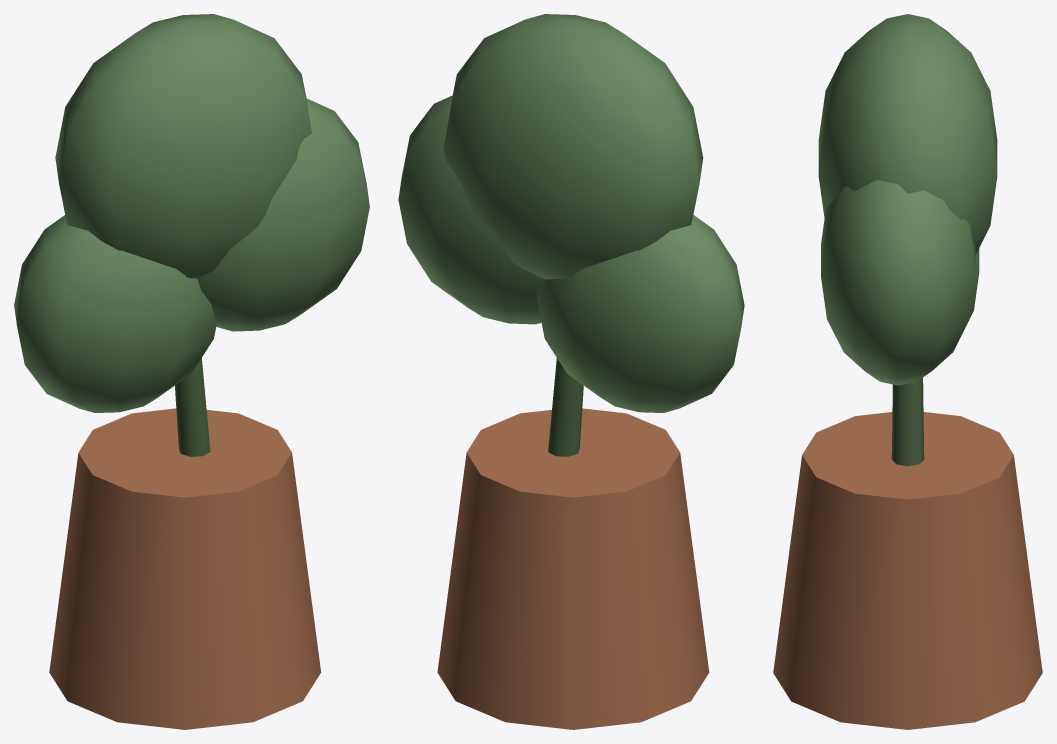
Rendered from plant.glb.
The picture shows the model from 3 angles, left to right: view 1: azimuth 30°, elevation 25°; view 2: azimuth 150°, elevation 25°; view 3: azimuth 270°, elevation 25°; orthographic projection.
Parts seen in each view (by area): view 1: leaf (×3), pot, stem; view 2: leaf (×3), pot, stem; view 3: pot, leaf (×2), stem.
Part boxes in pixels (<box>): leaf (×3): <box>14,14,369,412</box>; pot: <box>49,408,320,729</box>; stem: <box>175,358,210,456</box>; leaf (×3): <box>398,14,744,412</box>; pot: <box>437,408,709,729</box>; stem: <box>548,358,583,456</box>; pot: <box>773,412,1042,729</box>; leaf (×2): <box>818,14,997,385</box>; stem: <box>891,377,924,466</box>.
Size of the model in its own units: 0.82 by 1.48 by 0.56.
